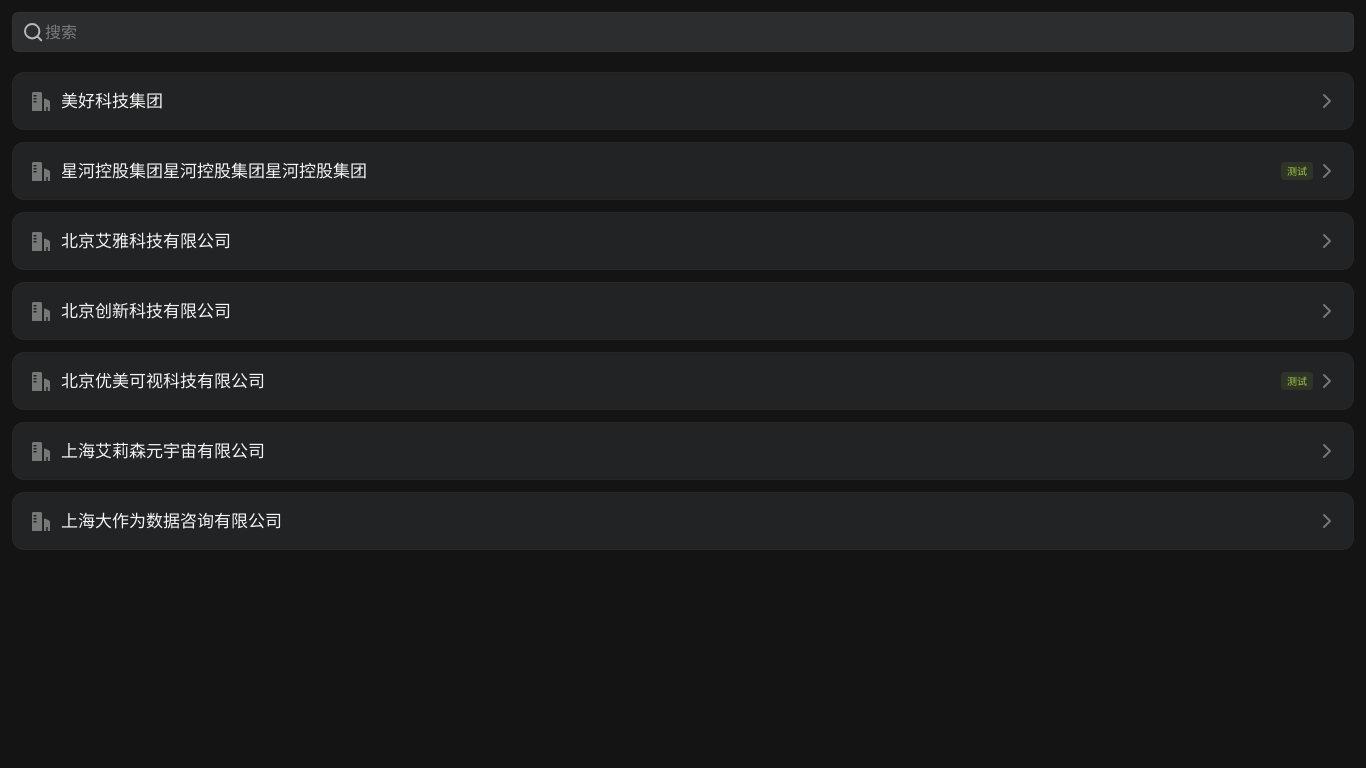
Test: CustomerListView › shows the empty state for an unmatched customer
Focus the search field named "搜索客户": (695,32) [45,13,1345,51]
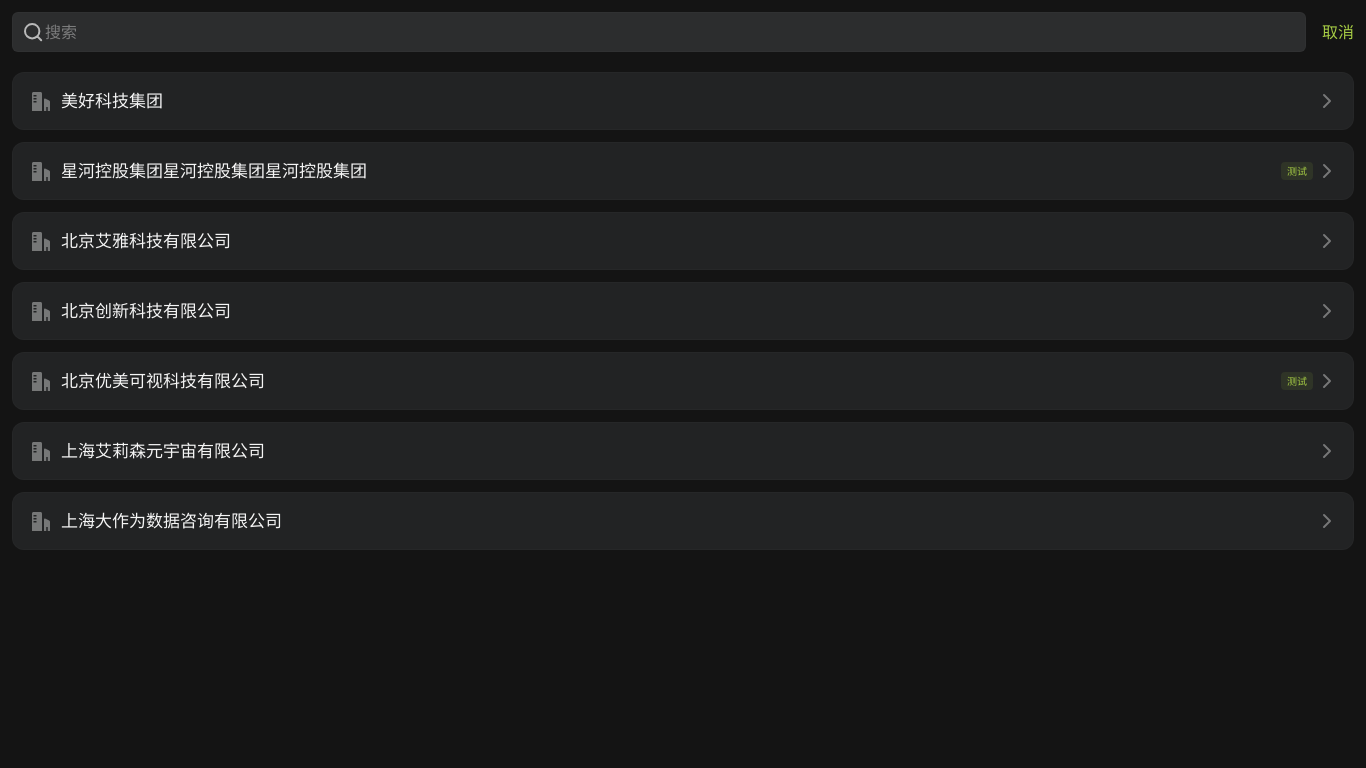
In the search field named "搜索客户": (671,32) [45,13,1297,51], type "高斯科技"
Wait 350 ms
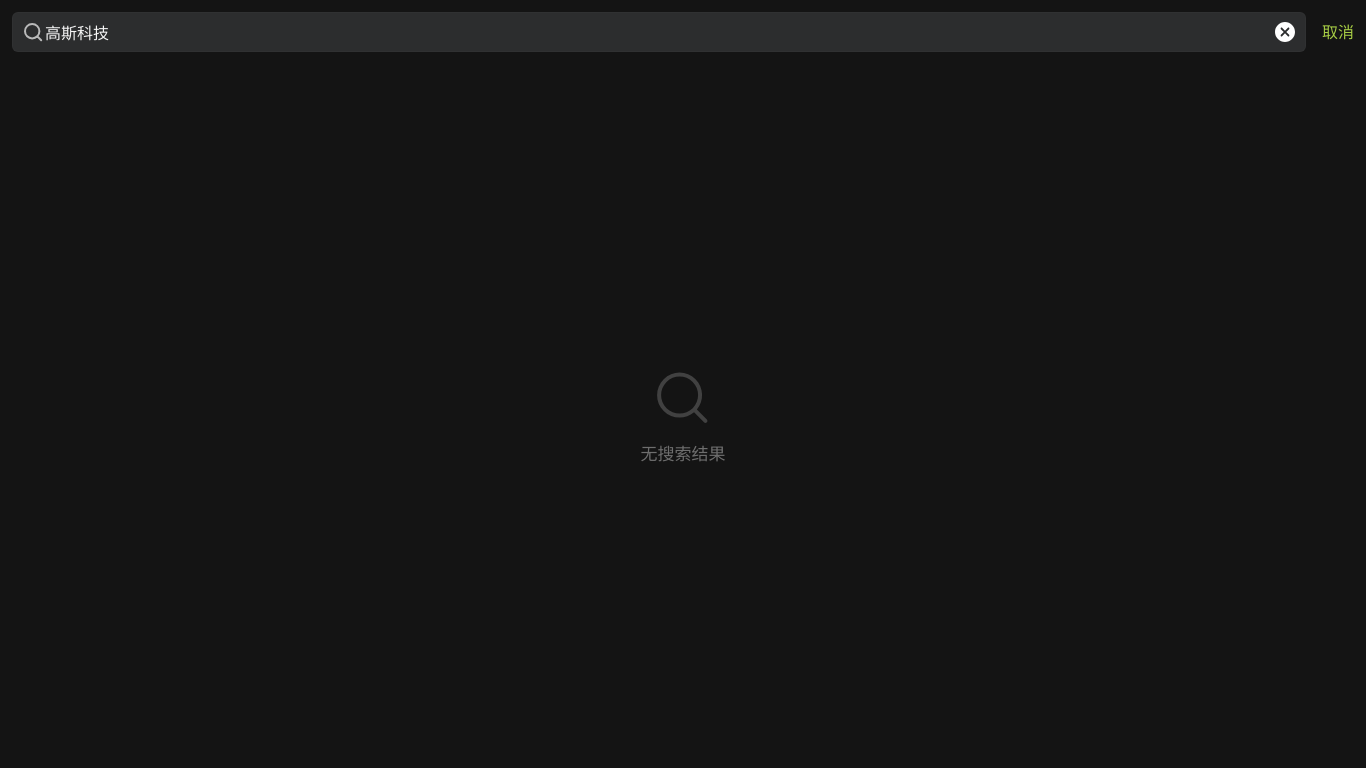
expect the text "无搜索结果" is shown: met, box [640,442,726,466]
